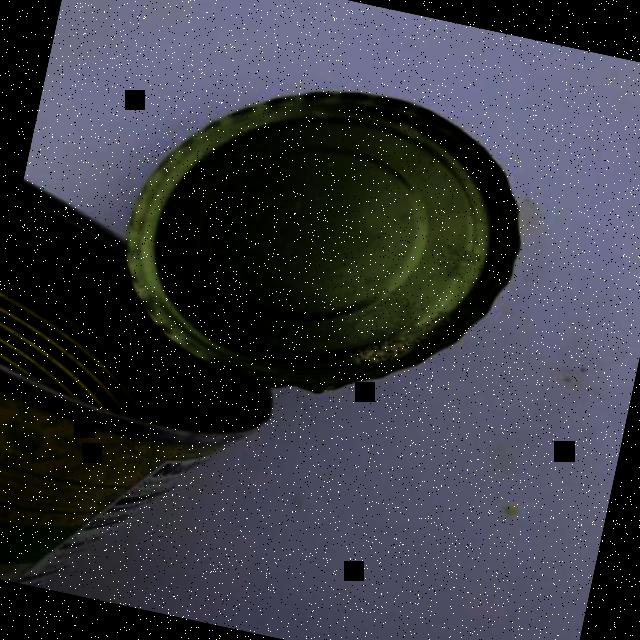can: (0, 21, 550, 640)
